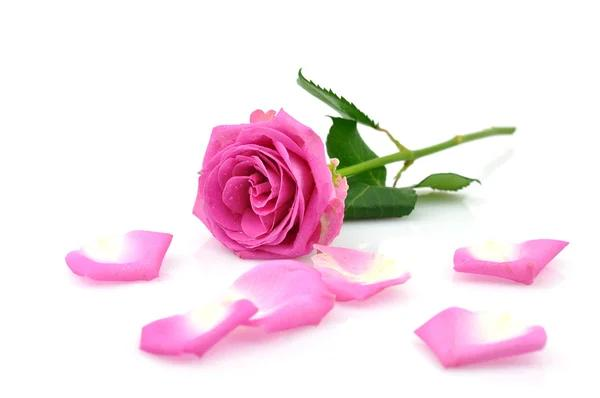Rose: (172, 104, 355, 262)
